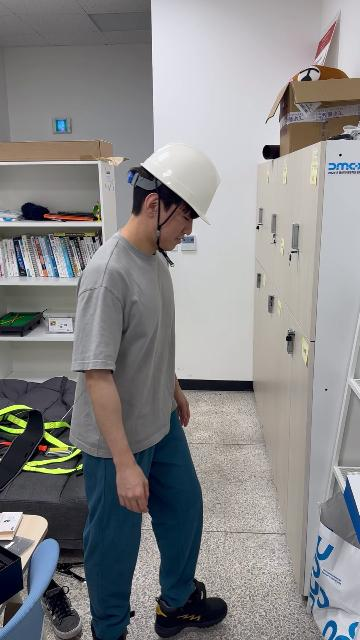helmet_worn: (136, 142, 221, 228)
shoe_not_worn: (41, 584, 84, 639)
shoe_worn: (154, 580, 225, 636)
vest_not_worn: (81, 238, 182, 449)
